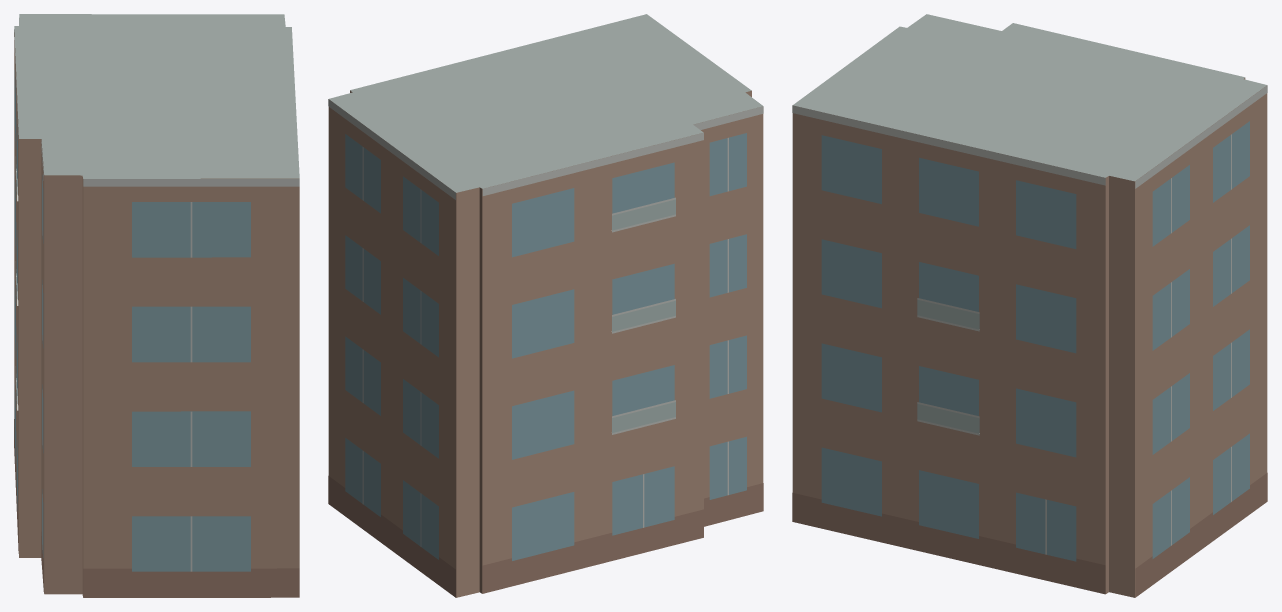
The model's file is survey-upis-32665866.glb.
The picture shows the model from 3 angles, left to right: view 1: azimuth 30°, elevation 25°; view 2: azimuth 150°, elevation 25°; view 3: azimuth 270°, elevation 25°; orthographic projection. The views are drawn at different scales.
Parts seen in each view (by area): view 1: survey-upis-32665866.tmp; view 2: survey-upis-32665866.tmp; view 3: survey-upis-32665866.tmp.
Boxes of the visible parts, x1,y1,x2,y2 form: survey-upis-32665866.tmp: (14, 14, 299, 597); survey-upis-32665866.tmp: (328, 14, 763, 597); survey-upis-32665866.tmp: (792, 14, 1267, 597).
Bounding box in the file's own units: 11.3 × 13.1 × 13.55.
